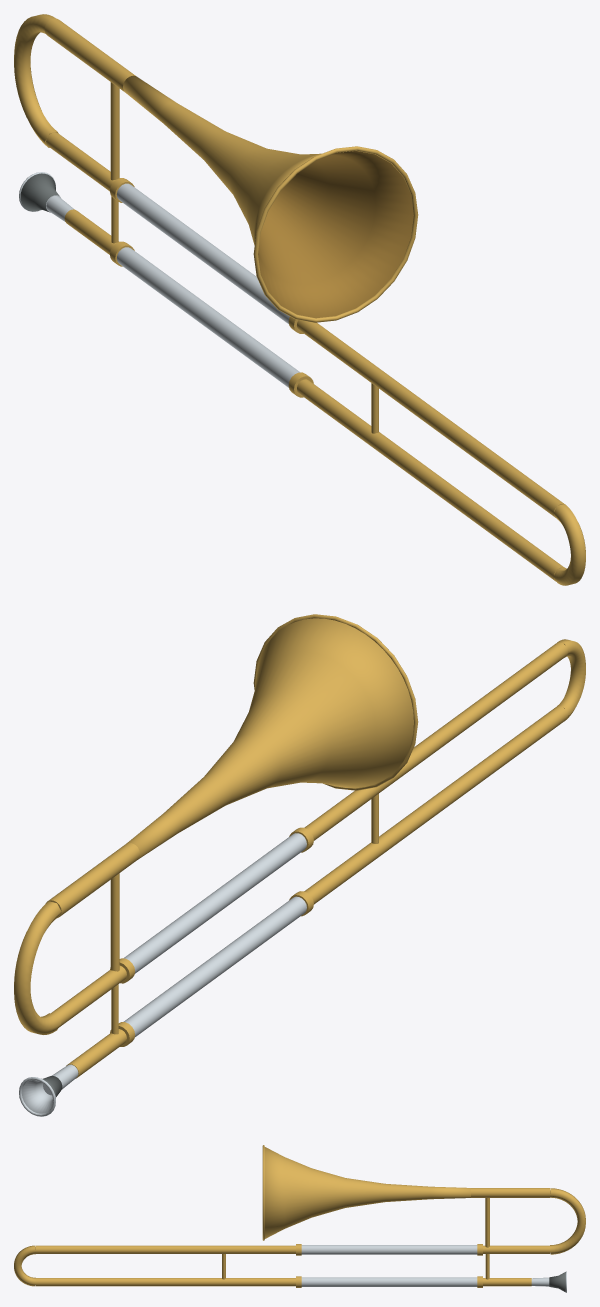
File: trombone.glb
The picture shows the model from 3 angles, top to bottom: view 1: azimuth 30°, elevation 25°; view 2: azimuth 150°, elevation 25°; view 3: azimuth 270°, elevation 25°; orthographic projection. The views are drawn at different scales.
Parts seen in each view (by area): view 1: Open flared trombone bell, Long slide tube, Long slide tube.001, Nickel outer slide sleeve, Nickel outer slide sleeve.001, Rolled bell rim, Bell branch rear tuning bow, Bell branch straight tubing, Rounded lower slide return bow, Silver mouthpiece cup, Bell section connecting brace; view 2: Open flared trombone bell, Long slide tube, Long slide tube.001, Nickel outer slide sleeve, Nickel outer slide sleeve.001, Bell branch rear tuning bow, Bell branch straight tubing, Rolled bell rim, Rounded lower slide return bow, Silver mouthpiece cup, Bell section connecting brace; view 3: Open flared trombone bell, Long slide tube, Long slide tube.001, Nickel outer slide sleeve, Nickel outer slide sleeve.001, Bell branch rear tuning bow, Bell branch straight tubing, Rounded lower slide return bow, Rolled bell rim, Bell section connecting brace, Silver mouthpiece cup.
Boxes of the visible parts, bbox=[...] form: Open flared trombone bell: bbox=[123, 75, 413, 318]; Long slide tube: bbox=[64, 209, 563, 581]; Long slide tube.001: bbox=[64, 146, 563, 517]; Nickel outer slide sleeve: bbox=[117, 247, 300, 387]; Nickel outer slide sleeve.001: bbox=[116, 183, 289, 323]; Rolled bell rim: bbox=[253, 146, 418, 322]; Bell branch rear tuning bow: bbox=[14, 14, 58, 147]; Bell branch straight tubing: bbox=[44, 18, 135, 91]; Rounded lower slide return bow: bbox=[553, 504, 585, 585]; Silver mouthpiece cup: bbox=[20, 173, 60, 212]; Bell section connecting brace: bbox=[110, 82, 119, 180]; Open flared trombone bell: bbox=[126, 618, 413, 859]; Long slide tube: bbox=[66, 706, 567, 1078]; Long slide tube.001: bbox=[68, 642, 567, 1010]; Nickel outer slide sleeve: bbox=[123, 896, 306, 1037]; Nickel outer slide sleeve.001: bbox=[124, 833, 306, 973]; Bell branch rear tuning bow: bbox=[14, 901, 61, 1034]; Bell branch straight tubing: bbox=[45, 843, 139, 917]; Rolled bell rim: bbox=[253, 614, 418, 790]; Rounded lower slide return bow: bbox=[557, 639, 585, 719]; Silver mouthpiece cup: bbox=[21, 1076, 62, 1113]; Bell section connecting brace: bbox=[110, 873, 119, 971]; Open flared trombone bell: bbox=[264, 1147, 470, 1238]; Long slide tube: bbox=[35, 1278, 531, 1286]; Long slide tube.001: bbox=[35, 1245, 531, 1253]; Nickel outer slide sleeve: bbox=[301, 1277, 477, 1286]; Nickel outer slide sleeve.001: bbox=[301, 1245, 477, 1254]; Bell branch rear tuning bow: bbox=[550, 1188, 585, 1254]; Bell branch straight tubing: bbox=[471, 1188, 550, 1197]; Rounded lower slide return bow: bbox=[14, 1245, 35, 1286]; Rolled bell rim: bbox=[262, 1145, 264, 1240]; Bell section connecting brace: bbox=[485, 1198, 489, 1247]; Silver mouthpiece cup: bbox=[549, 1272, 565, 1292].
Size of the model in its own units: 0.23 by 0.376 by 1.37.
